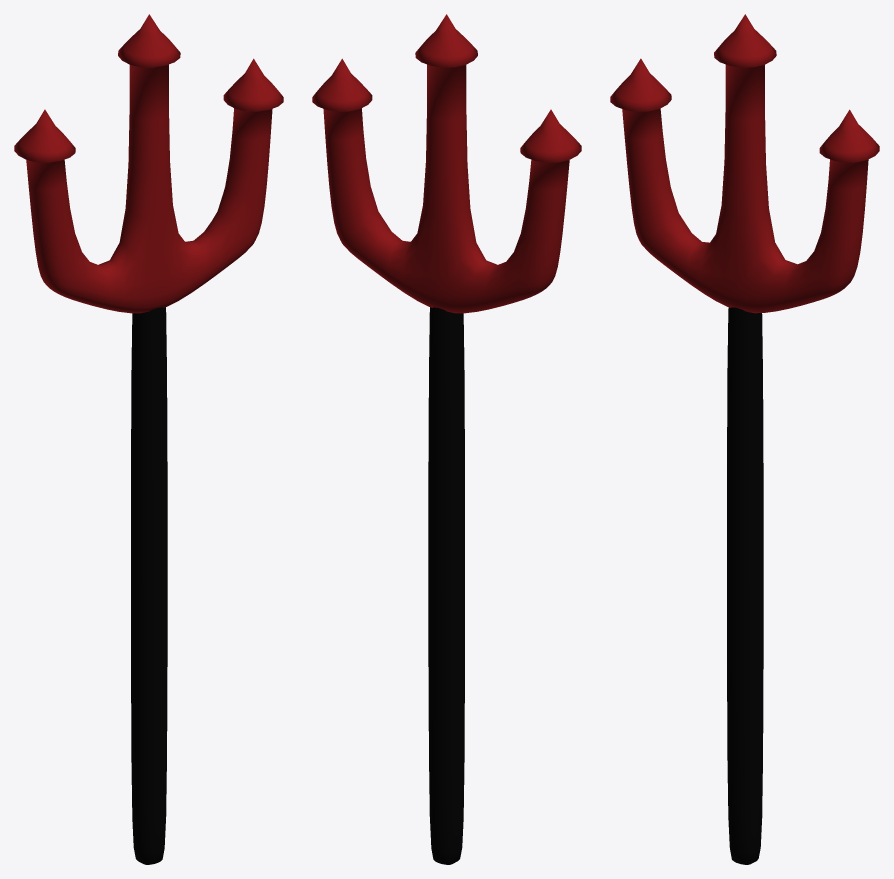
The model's file is Pitchfork.fbx.
3 views of the same model, side by side, from view 1: azimuth 30°, elevation 25°; view 2: azimuth 150°, elevation 25°; view 3: azimuth 330°, elevation 25° (orthographic).
Visible parts, largest first — view 1: Pitchfork; view 2: Pitchfork; view 3: Pitchfork.
Boxes of the visible parts, <box> form: Pitchfork: <box>14,14,283,864</box>; Pitchfork: <box>312,14,581,864</box>; Pitchfork: <box>610,14,879,864</box>.
Bounding box in the file's own units: 25.13 × 78.01 × 5.25.
1 material, 1 textured.
